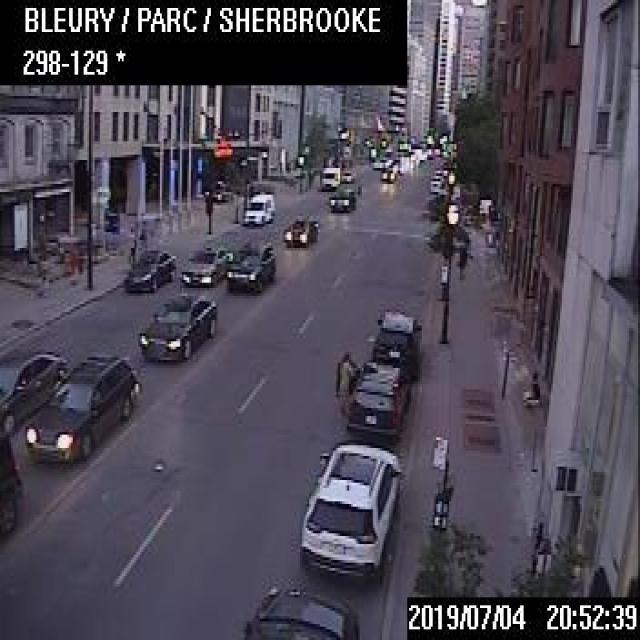pedestrian: (332, 349, 354, 424)
vehicle: (296, 441, 401, 586), (24, 353, 138, 460), (233, 584, 360, 637), (334, 356, 410, 443), (0, 345, 69, 436), (136, 291, 216, 360), (371, 306, 422, 380), (224, 237, 275, 291), (122, 248, 175, 291), (178, 243, 232, 285), (0, 429, 20, 542), (282, 214, 316, 245), (242, 192, 273, 224), (328, 184, 355, 210), (319, 164, 339, 188), (379, 165, 395, 181), (427, 174, 443, 189), (339, 168, 354, 181)
